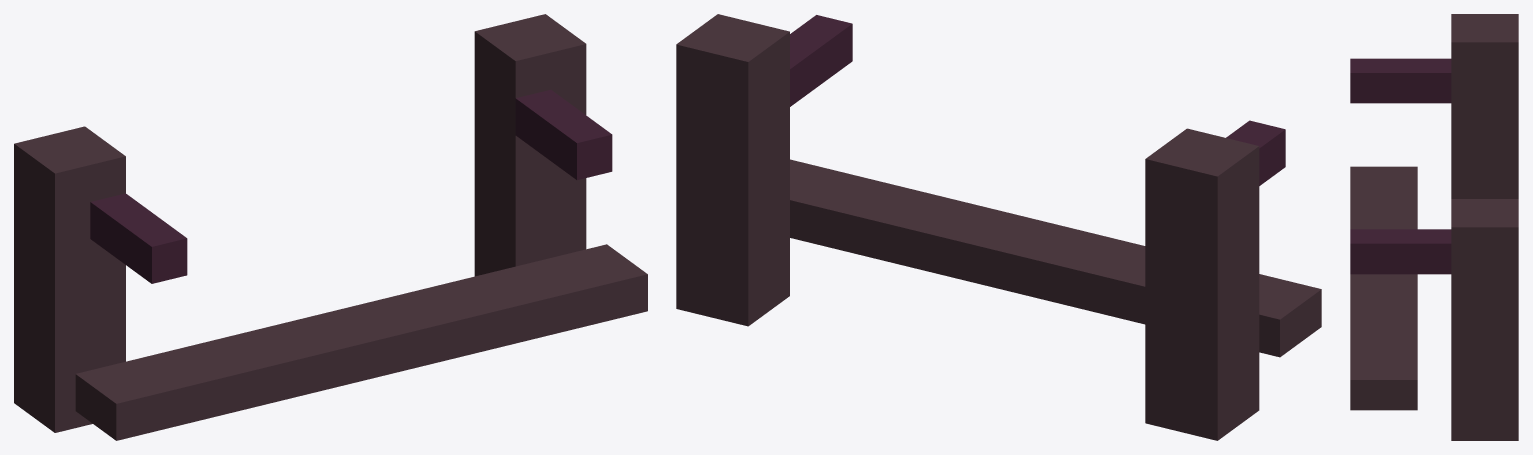
The model's file is bridge_c_ending.obj.
3 renders of one model, left to right at view 1: azimuth 30°, elevation 25°; view 2: azimuth 150°, elevation 25°; view 3: azimuth 270°, elevation 25°, orthographic. The views are drawn at different scales.
Size of the model in its own units: 1.5 by 0.7 by 0.5.
Materials: 1 (1 with a texture image).
